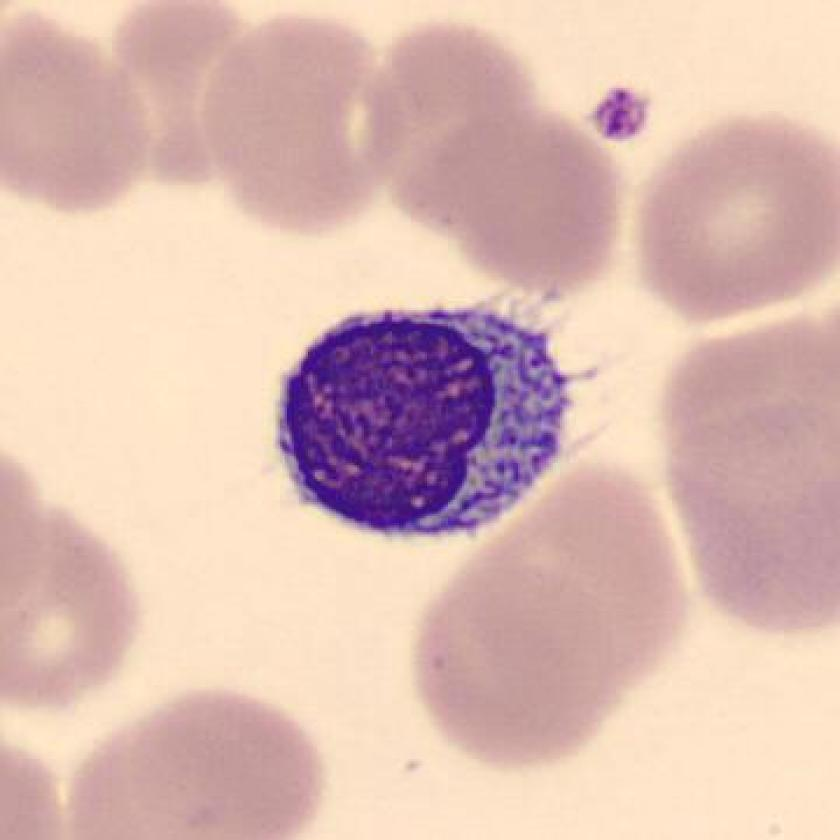lymphocyte: (255, 286, 596, 556)
platelets: (587, 82, 657, 158)
